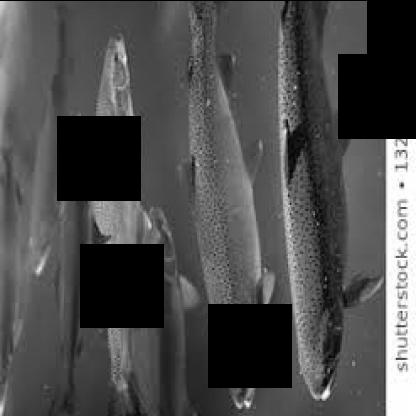fish: (272, 2, 377, 402), (174, 2, 270, 415), (85, 30, 148, 415), (48, 149, 93, 415)
